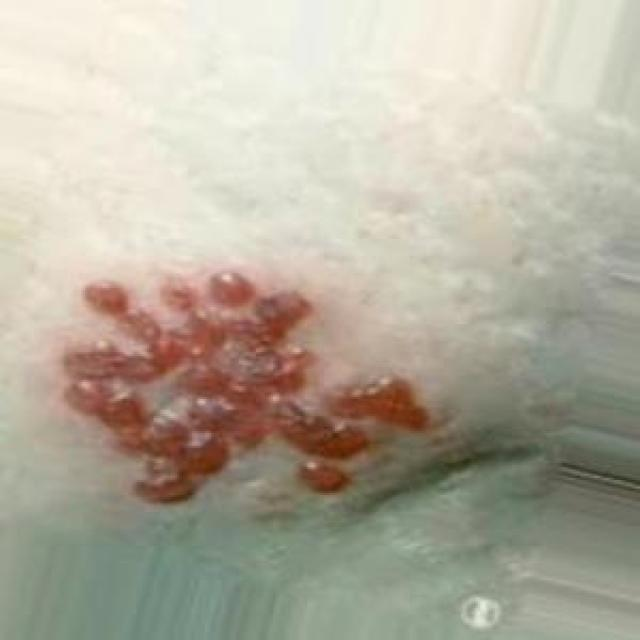Shingles: (58, 268, 435, 504)
